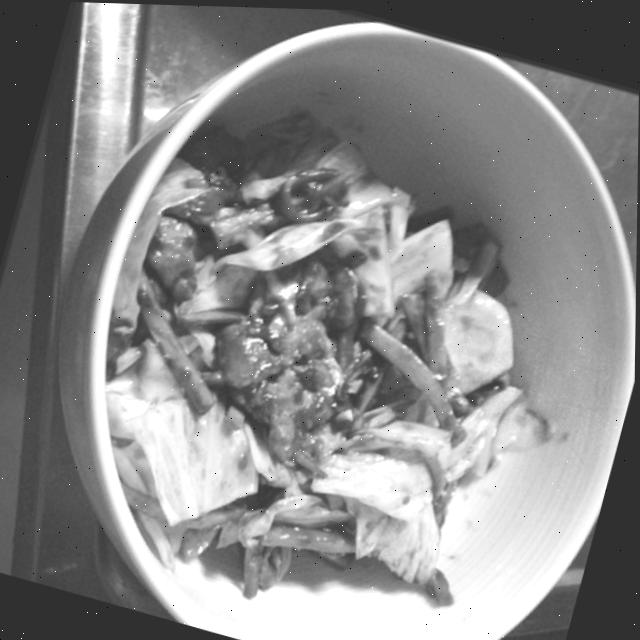猪肉菜式: (16, 1, 640, 640)
